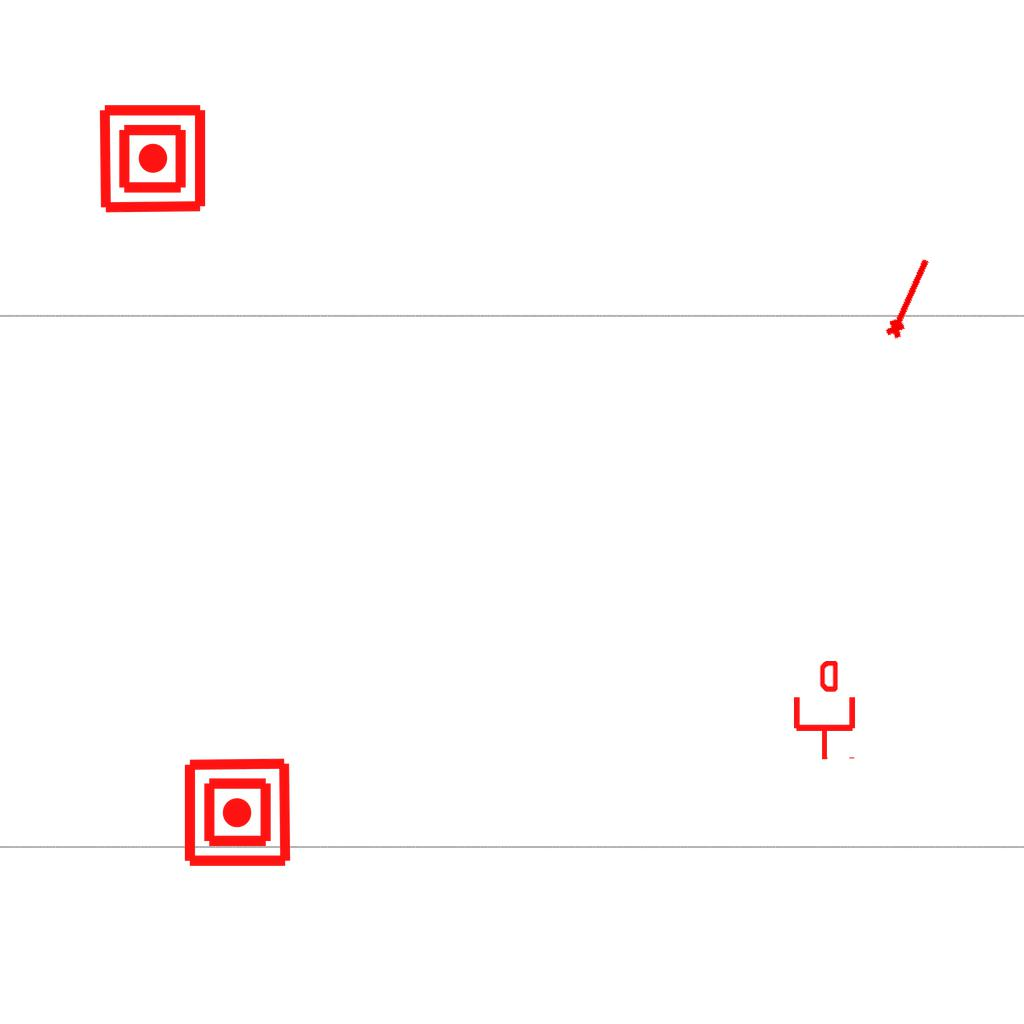ASR_Ansaugoeffnung: (879, 252, 937, 343)
Datenanschluss_einfach: (790, 661, 859, 761)
NAM-Nichtautomatischer_Melder: (96, 102, 209, 215), (181, 756, 294, 869)
